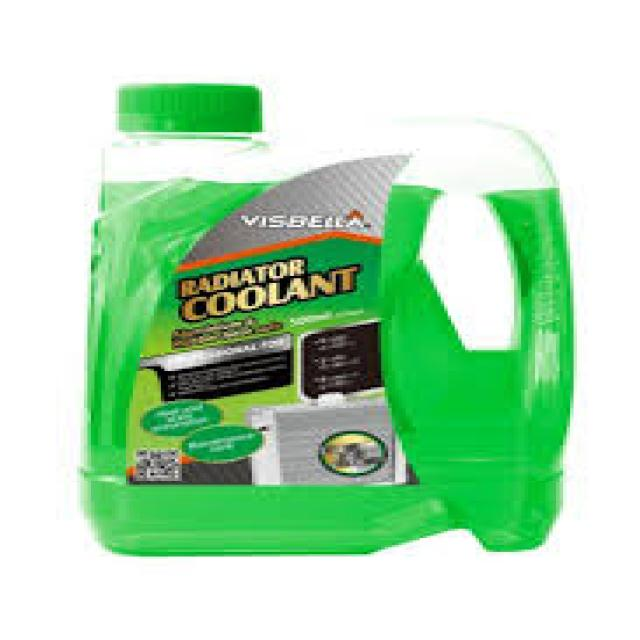coolant: (80, 75, 590, 566)
